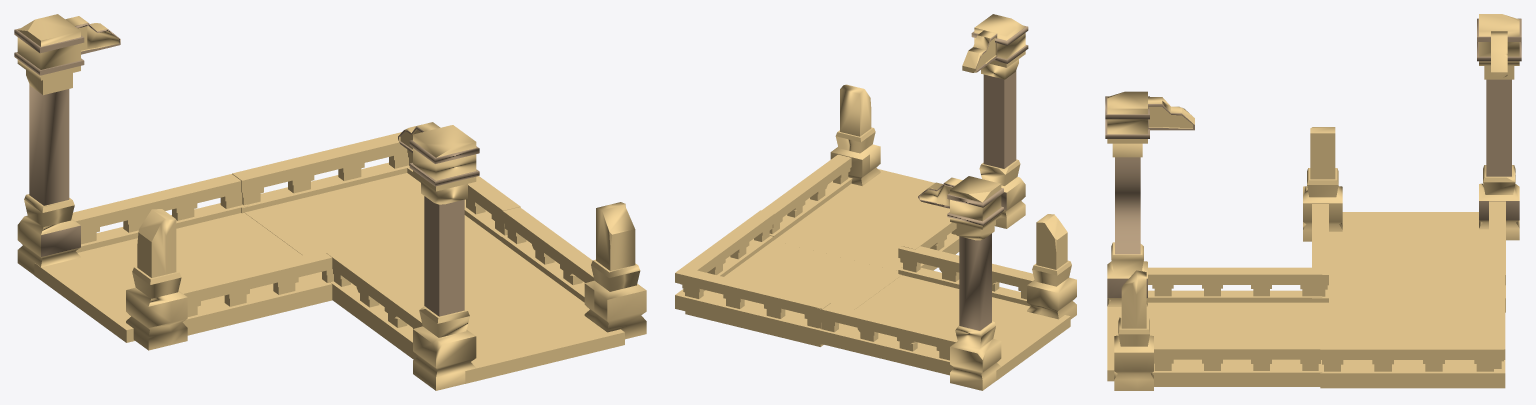
Rendered from Platform_Corner.fbx.
The picture shows the model from 3 angles, left to right: view 1: azimuth 30°, elevation 25°; view 2: azimuth 150°, elevation 25°; view 3: azimuth 270°, elevation 25°; orthographic projection. The views are drawn at different scales.
Visible parts, largest first — view 1: pCube17.093; view 2: pCube17.093; view 3: pCube17.093.
Boxes of the visible parts, x1,y1,x2,y2 form: pCube17.093: (14,14,646,390); pCube17.093: (675,14,1076,390); pCube17.093: (1105,14,1521,390).
Bounding box in the file's own units: 222 × 129 × 230.
